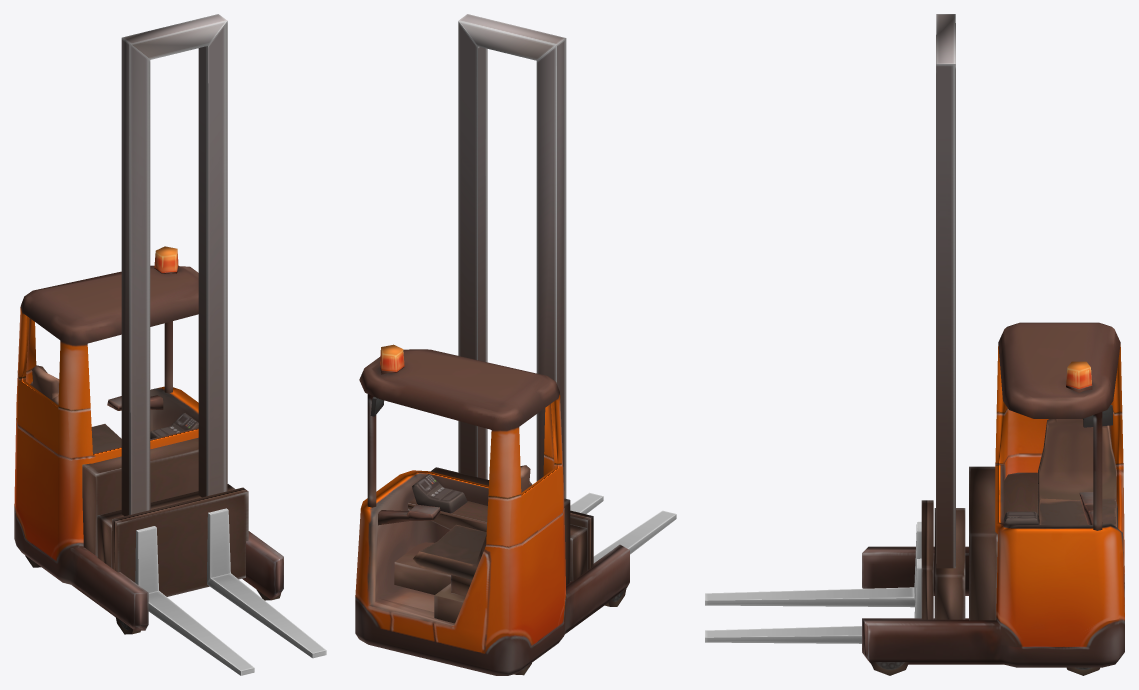
3 renders of one model, left to right at view 1: azimuth 30°, elevation 25°; view 2: azimuth 150°, elevation 25°; view 3: azimuth 270°, elevation 25°, orthographic. The views are drawn at different scales.
Visible parts, largest first — view 1: RTCar, RTY, RTXL; view 2: RTCar, RTY, RTXL; view 3: RTCar, RTY, RTXL.
Boxes of the visible parts, left/top/right/bottom form: RTCar: left=14, top=246, right=283, bottom=634; RTY: left=97, top=14, right=235, bottom=567; RTXL: left=112, top=487, right=326, bottom=675; RTCar: left=355, top=344, right=629, bottom=675; RTY: left=458, top=14, right=587, bottom=581; RTXL: left=570, top=492, right=676, bottom=570; RTCar: left=862, top=322, right=1124, bottom=675; RTY: left=934, top=14, right=965, bottom=619; RTXL: left=705, top=500, right=933, bottom=643.
Bounding box in the file's own units: 18.87 × 60.34 × 38.25.
1 material, 1 textured.
